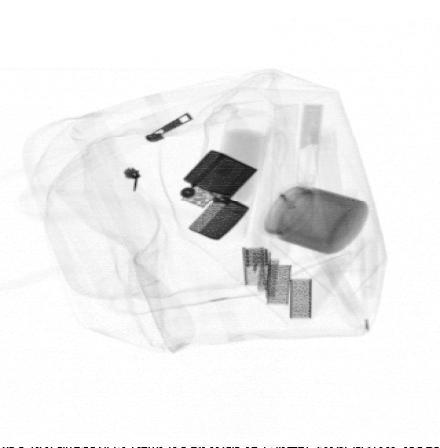Lighter: (176, 149, 259, 241)
